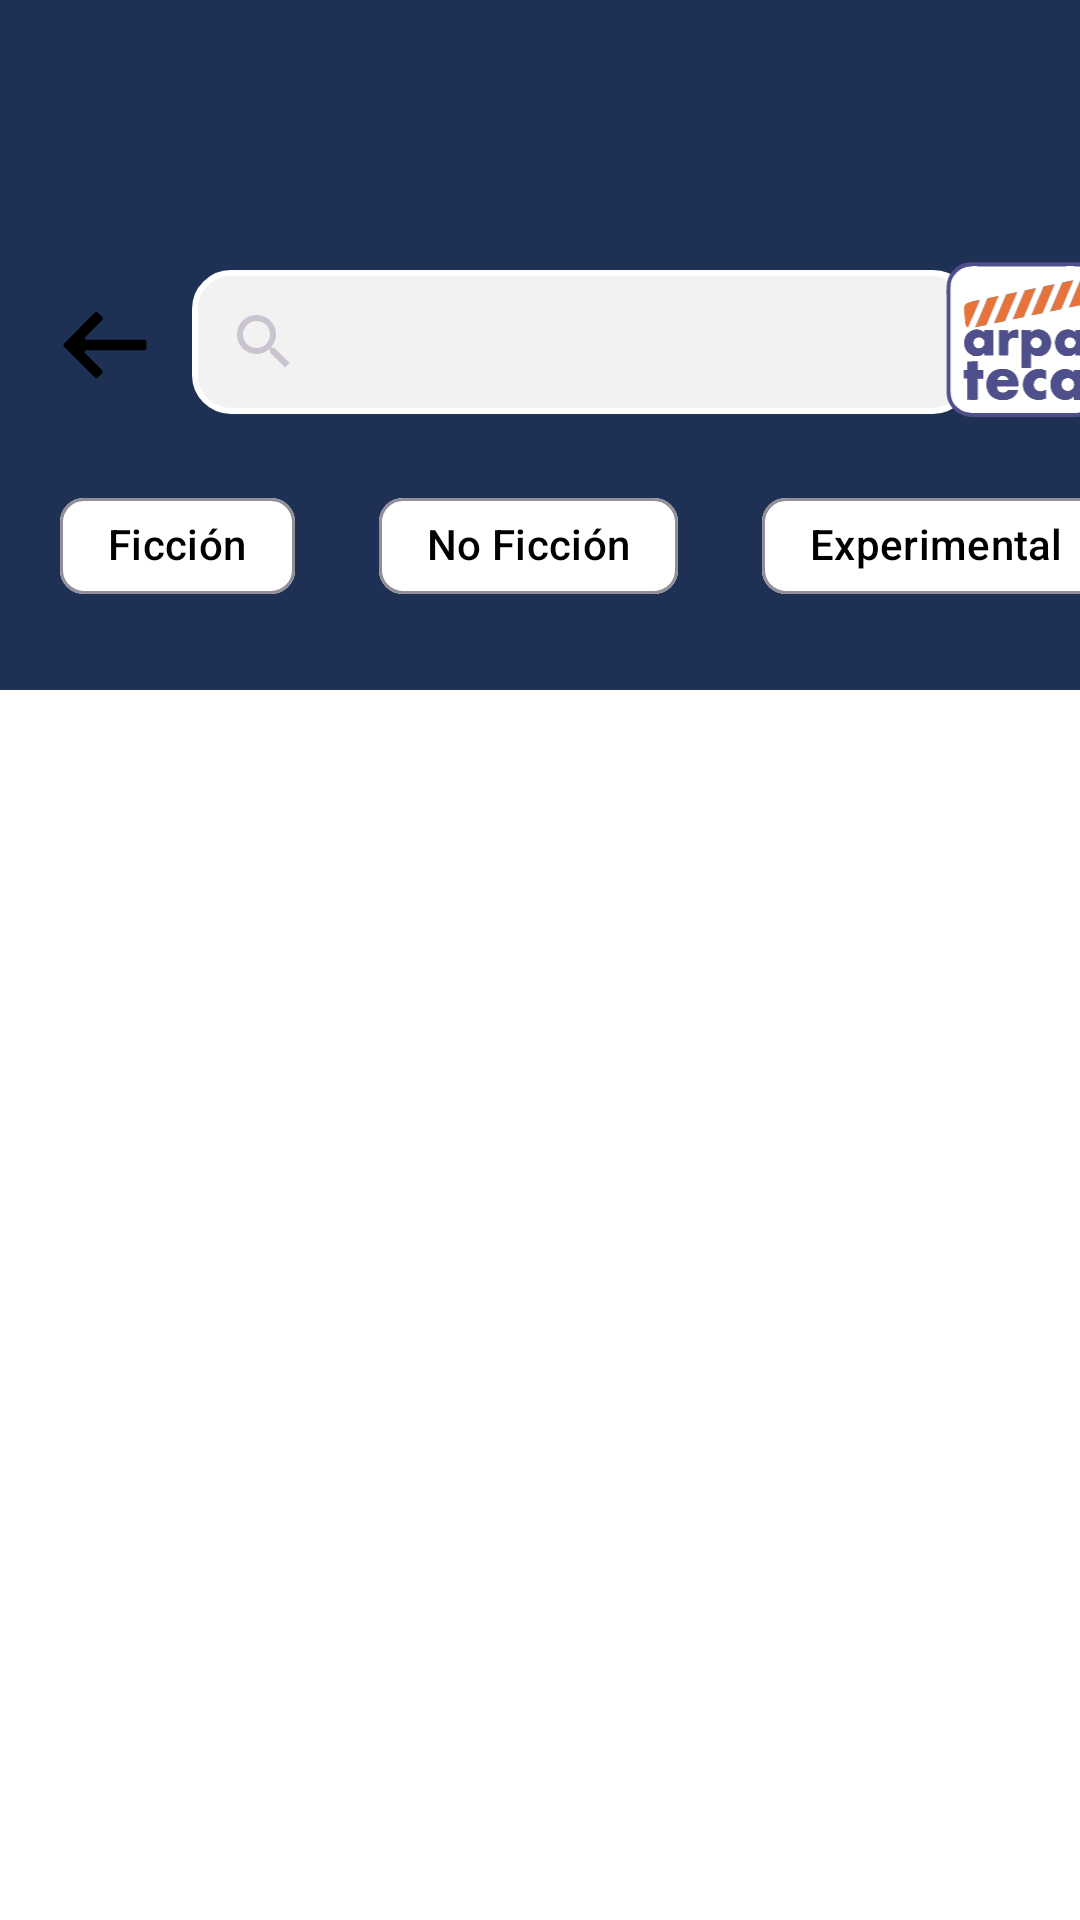

Point at icon controls on the screen. Image size 1080px×1920px, points as (x,y).
back arrow: (105,345)
